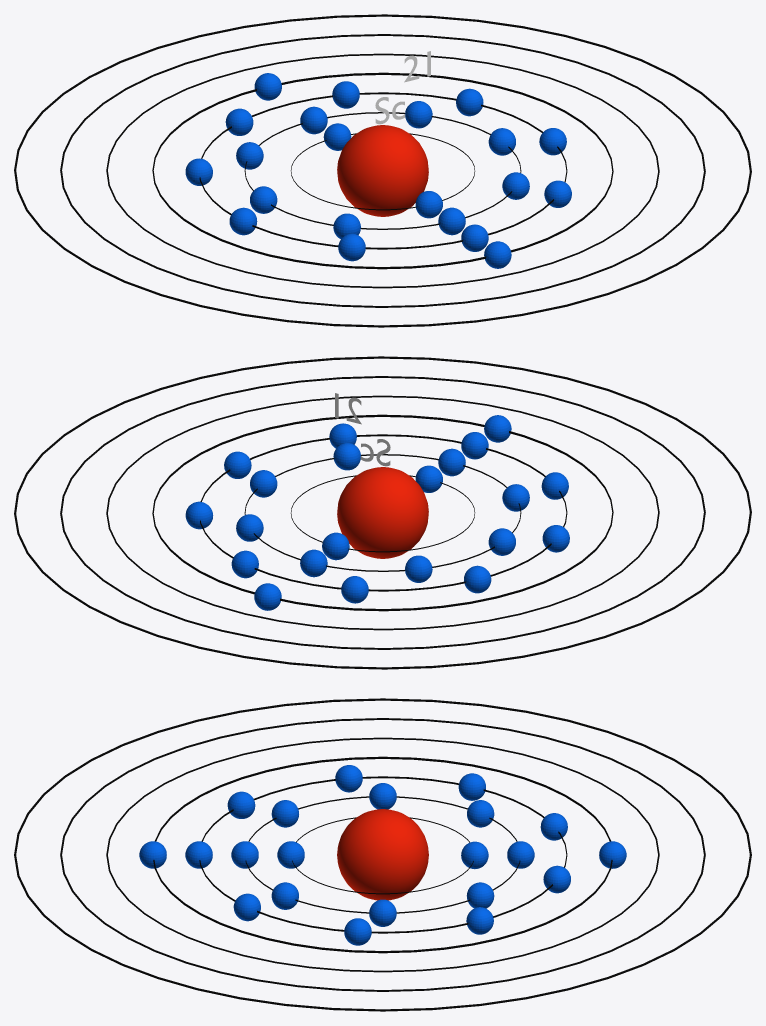
3 views of the same model, one above another, from view 1: azimuth 30°, elevation 25°; view 2: azimuth 150°, elevation 25°; view 3: azimuth 270°, elevation 25° (orthographic).
Visible parts, largest first — view 1: Proton, Sc3, Sc2, n7, n6, n5, n4, n3, Sc4, Sc1, n2; view 2: Proton, Sc3, Sc2, n7, n6, n5, n4, n3, Sc4, Sc1, n2; view 3: Proton, Sc3, Sc2, n7, n6, n5, n4, n3, Sc1, Sc4, n2, n1.
Part boxes in pixels (x1,y1,x2,y2): Proton: [337, 125, 428, 216]; Sc3: [185, 81, 571, 261]; Sc2: [236, 101, 529, 238]; n7: [14, 14, 751, 327]; n6: [60, 34, 705, 307]; n5: [106, 53, 659, 288]; n4: [152, 72, 613, 269]; n3: [199, 92, 567, 249]; Sc4: [254, 73, 511, 268]; Sc1: [323, 123, 442, 218]; n2: [244, 112, 521, 229]; Proton: [337, 467, 428, 558]; Sc3: [185, 423, 569, 603]; Sc2: [236, 443, 529, 582]; n7: [14, 356, 751, 669]; n6: [60, 376, 705, 649]; n5: [106, 395, 659, 630]; n4: [152, 414, 613, 611]; n3: [200, 434, 567, 591]; Sc4: [254, 415, 511, 610]; Sc1: [322, 465, 442, 560]; n2: [244, 454, 521, 571]; Proton: [337, 809, 428, 900]; Sc3: [185, 765, 570, 945]; Sc2: [231, 783, 534, 926]; n7: [14, 698, 751, 1011]; n6: [60, 718, 705, 991]; n5: [106, 737, 659, 972]; n4: [153, 756, 612, 953]; n3: [199, 776, 567, 933]; Sc1: [277, 841, 488, 869]; Sc4: [139, 841, 626, 868]; n2: [245, 796, 520, 913]; n1: [292, 817, 473, 894].
Size of the model in its own units: 802 by 180 by 802.
